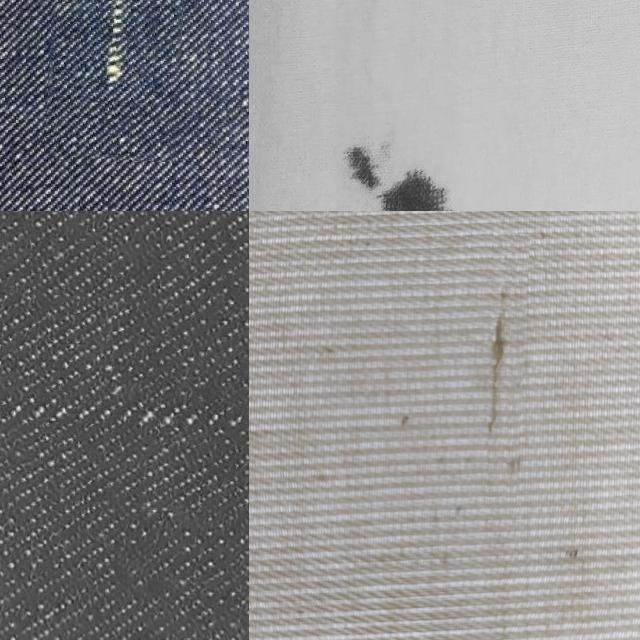Hole: (305, 104, 505, 211)
Thread_other: (0, 298, 249, 523), (46, 0, 182, 161), (472, 232, 526, 497)
